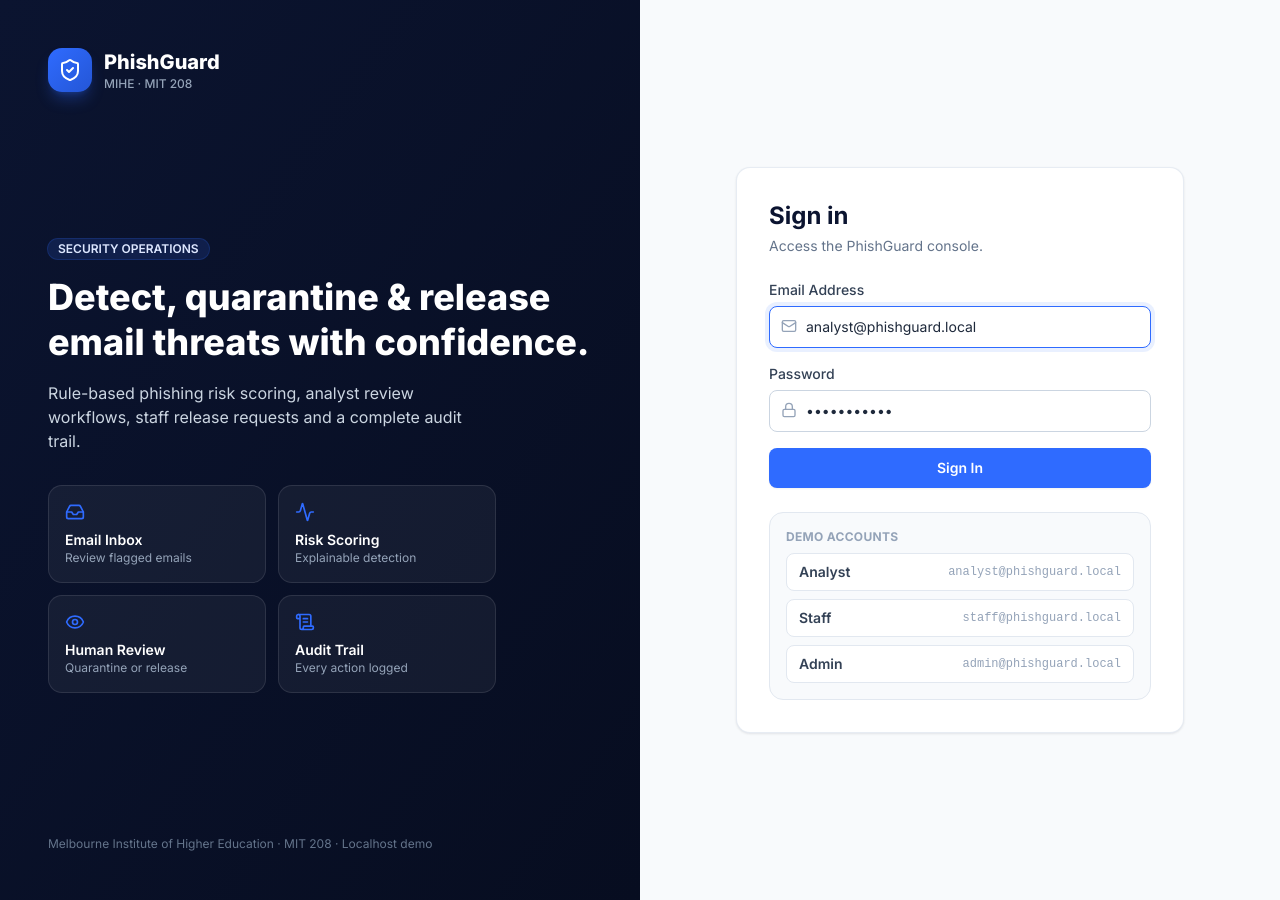
Login › shows the API's message when the credentials are wrong
This screenshot has width=1280, height=900.
What coordinates should you click on to do the following:
click the button "Sign In"
I would click on:
 (960, 468)
Its box is x1=769 y1=448 x2=1151 y2=488.
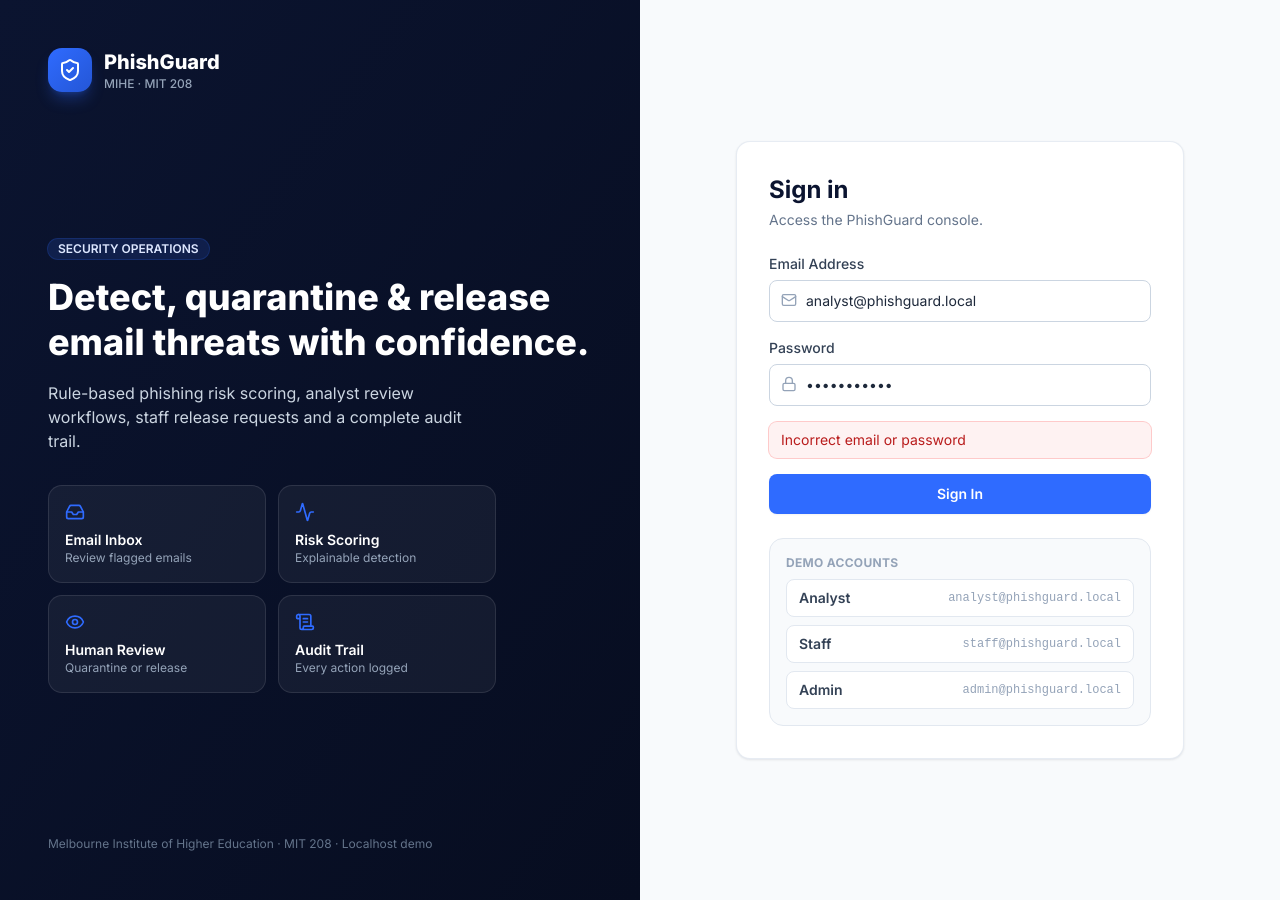
Expected: the text "Incorrect email or password" is shown, x1=769 y1=422 x2=1151 y2=458
